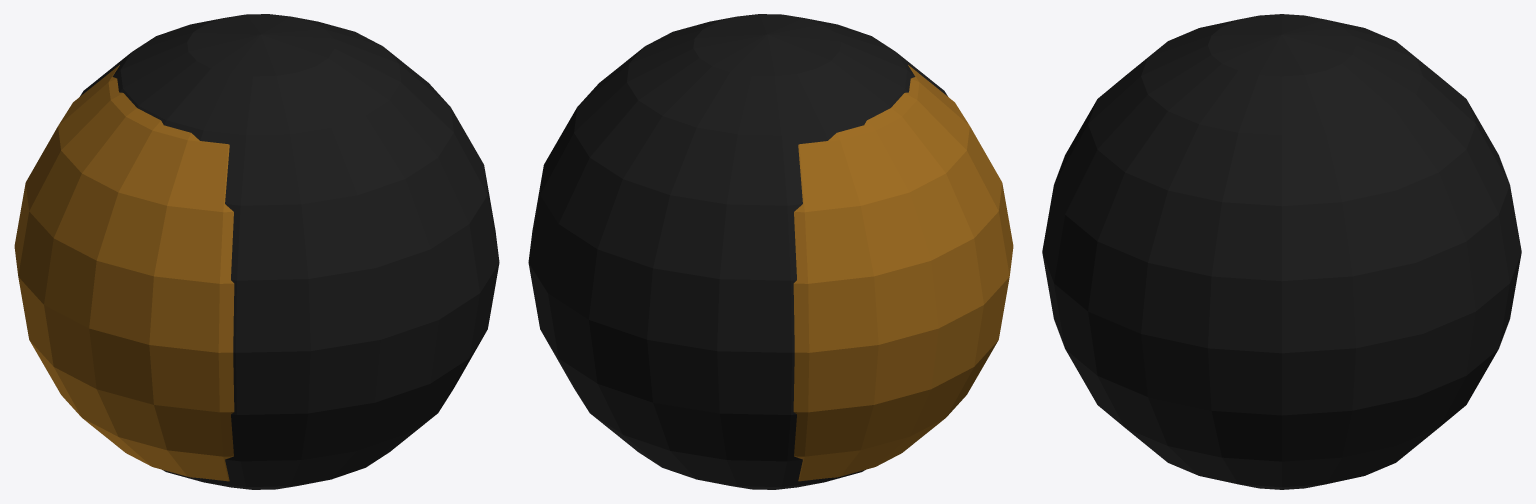
File: EYE_Y_LINK_mesh.obj
3 views of the same model, side by side, from view 1: azimuth 30°, elevation 25°; view 2: azimuth 150°, elevation 25°; view 3: azimuth 270°, elevation 25° (orthographic).
Parts seen in each view (by area): view 1: EYE_Y_LINK, EYE_Y_LINK.001; view 2: EYE_Y_LINK, EYE_Y_LINK.001; view 3: EYE_Y_LINK.
Part boxes in pixels (x1,y1,x2,y2): EYE_Y_LINK: (80,14,499,489); EYE_Y_LINK.001: (14,65,234,481); EYE_Y_LINK: (528,14,947,489); EYE_Y_LINK.001: (793,65,1013,481); EYE_Y_LINK: (1042,14,1521,489).
Size of the model in its own units: 0.0117 by 0.0114 by 0.0114.
